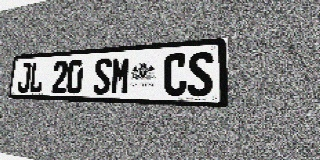0: (66, 59, 84, 94)
2: (51, 60, 68, 94)
C: (163, 53, 187, 96)
J: (17, 62, 31, 93)
L: (29, 62, 44, 93)
M: (110, 56, 131, 95)
S: (187, 51, 213, 97), (92, 57, 112, 95)
